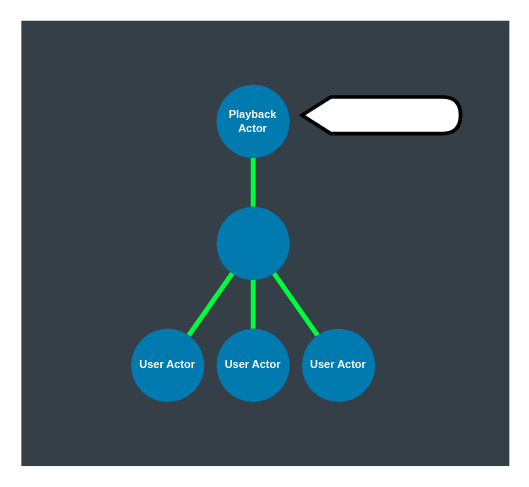
Some shapes in this 529 by 487 pixel diagram are drawn without their labels. Each missing label, with the centre of its shape:
Top Level Actors: point 381,115
User Coordinator Actor: point 252,242
